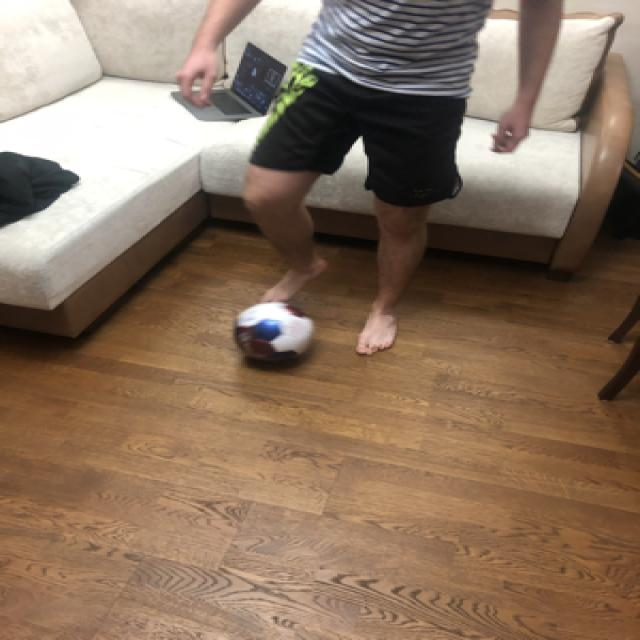soccer_ball: (230, 298, 316, 363)
